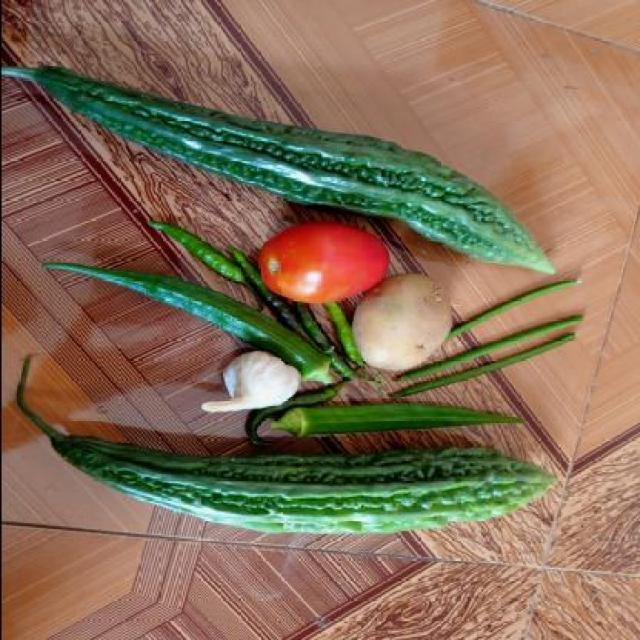Bitter melon: (37, 68, 495, 209), (29, 442, 549, 538)
Garlic: (202, 344, 302, 418)
Lady finger: (271, 408, 518, 432)
Potato: (351, 272, 454, 372)
Tomato: (254, 225, 386, 303)
